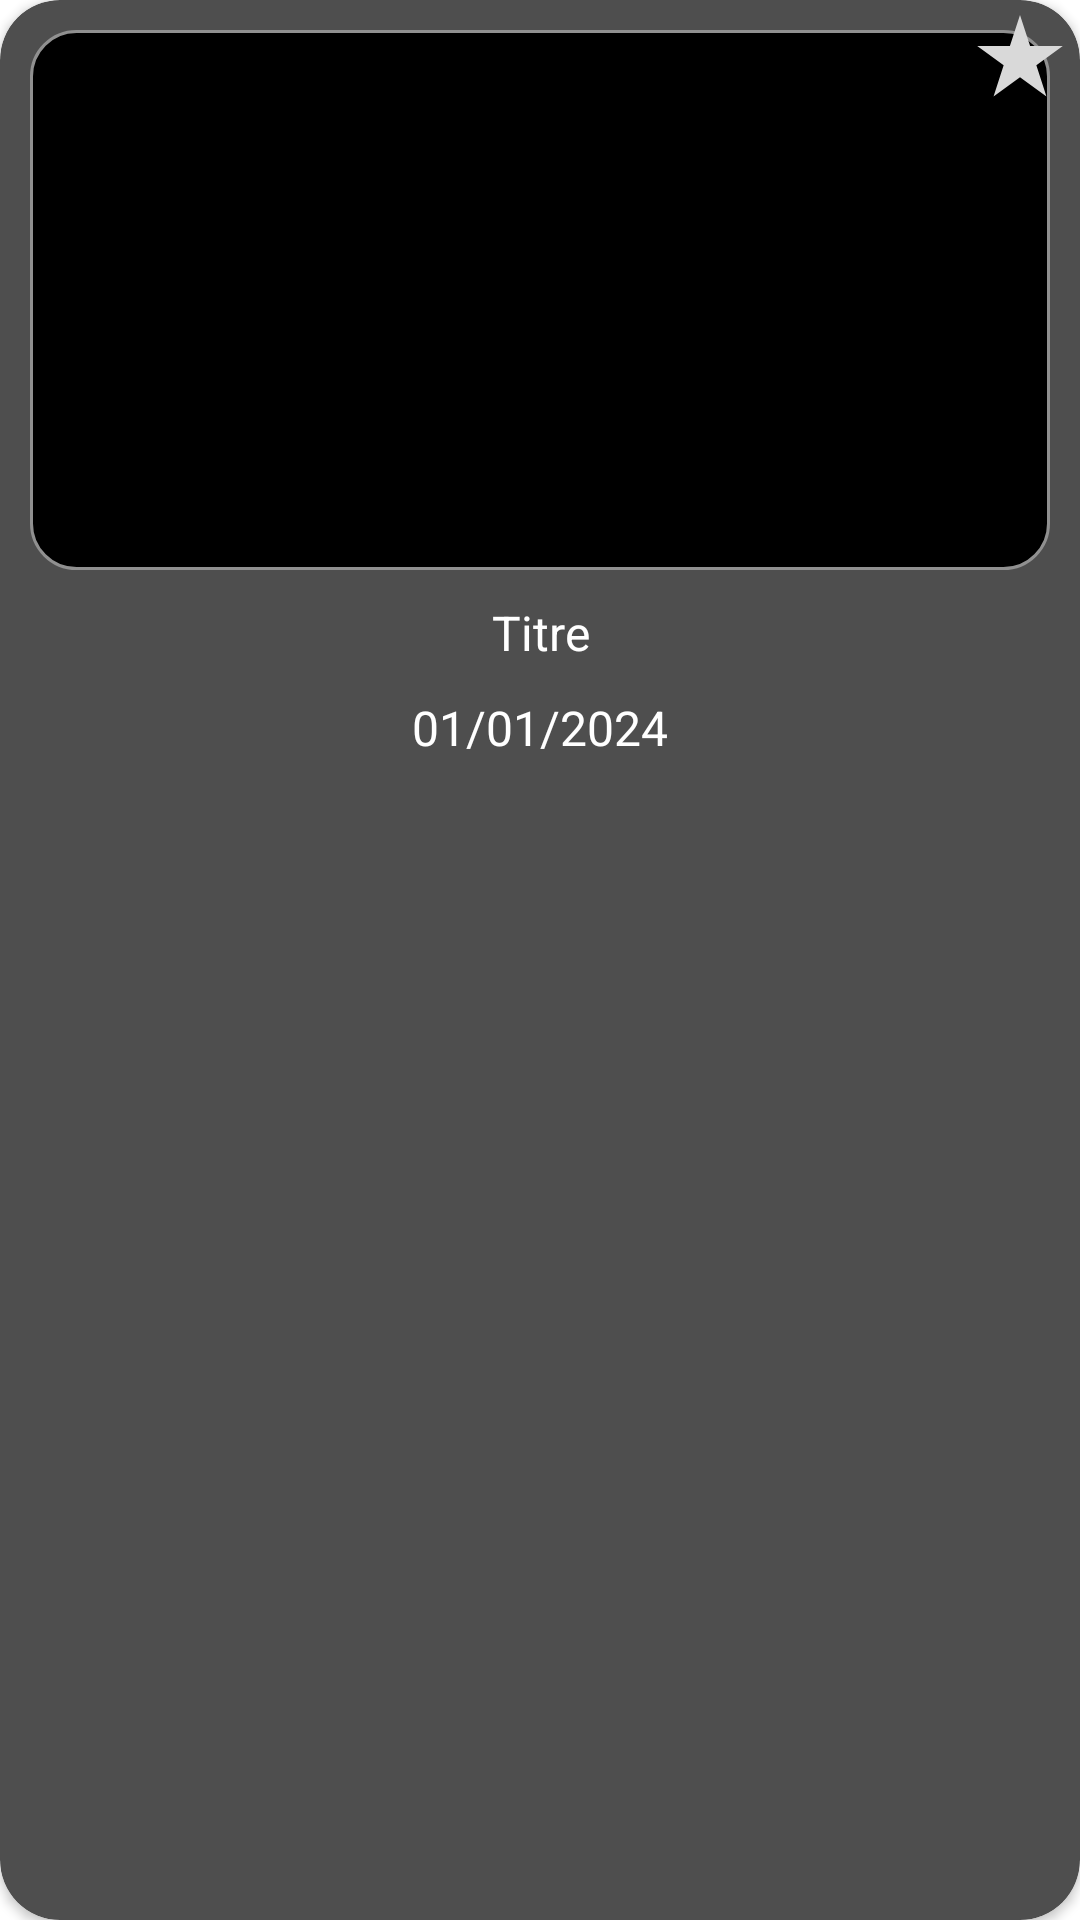

Point at icon controls on the screen. Image size 1080*1920, points as (x=x, y=y).
star: (x=1020, y=60)
